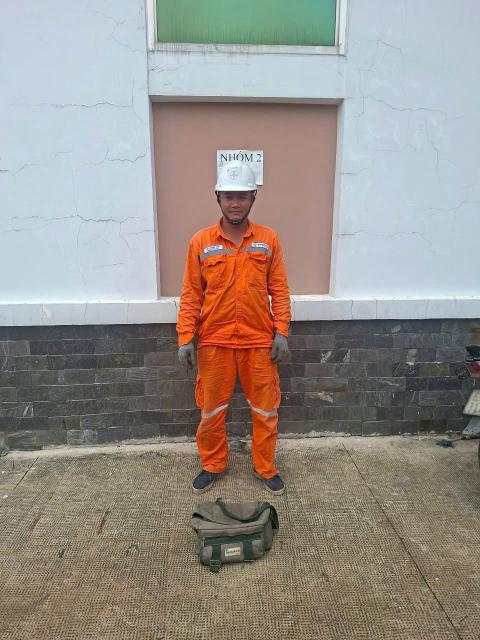gloves: (173, 340, 208, 375), (268, 325, 292, 364)
helmet: (215, 152, 257, 198)
shoes: (183, 461, 230, 499), (251, 461, 282, 496)
